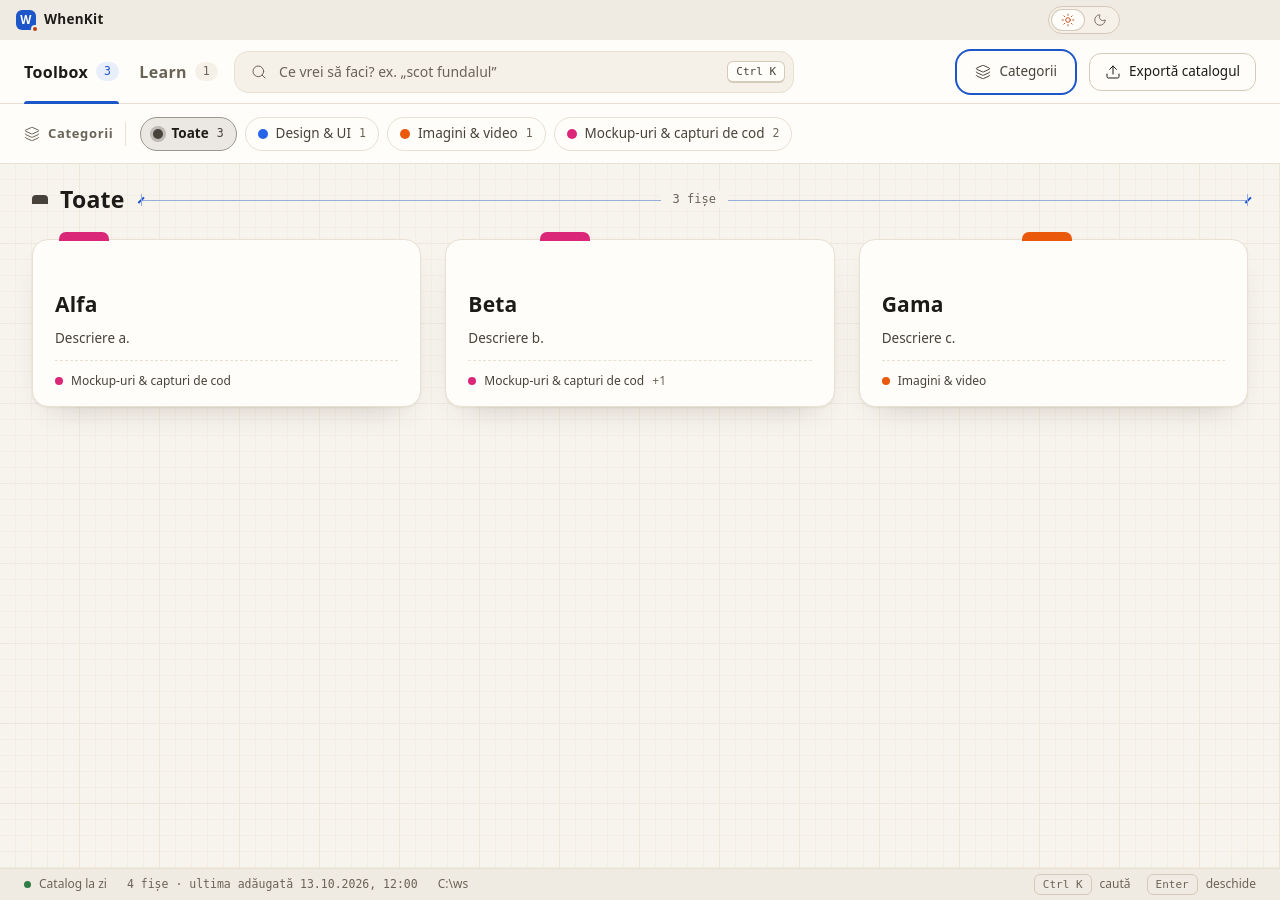
Test: App: category manager › opens from „Categorii” in the toolbar and gives the focus back on close
The image size is (1280, 900).
Click the button "Categorii".
click(1016, 72)  # box [960, 52, 1073, 90]
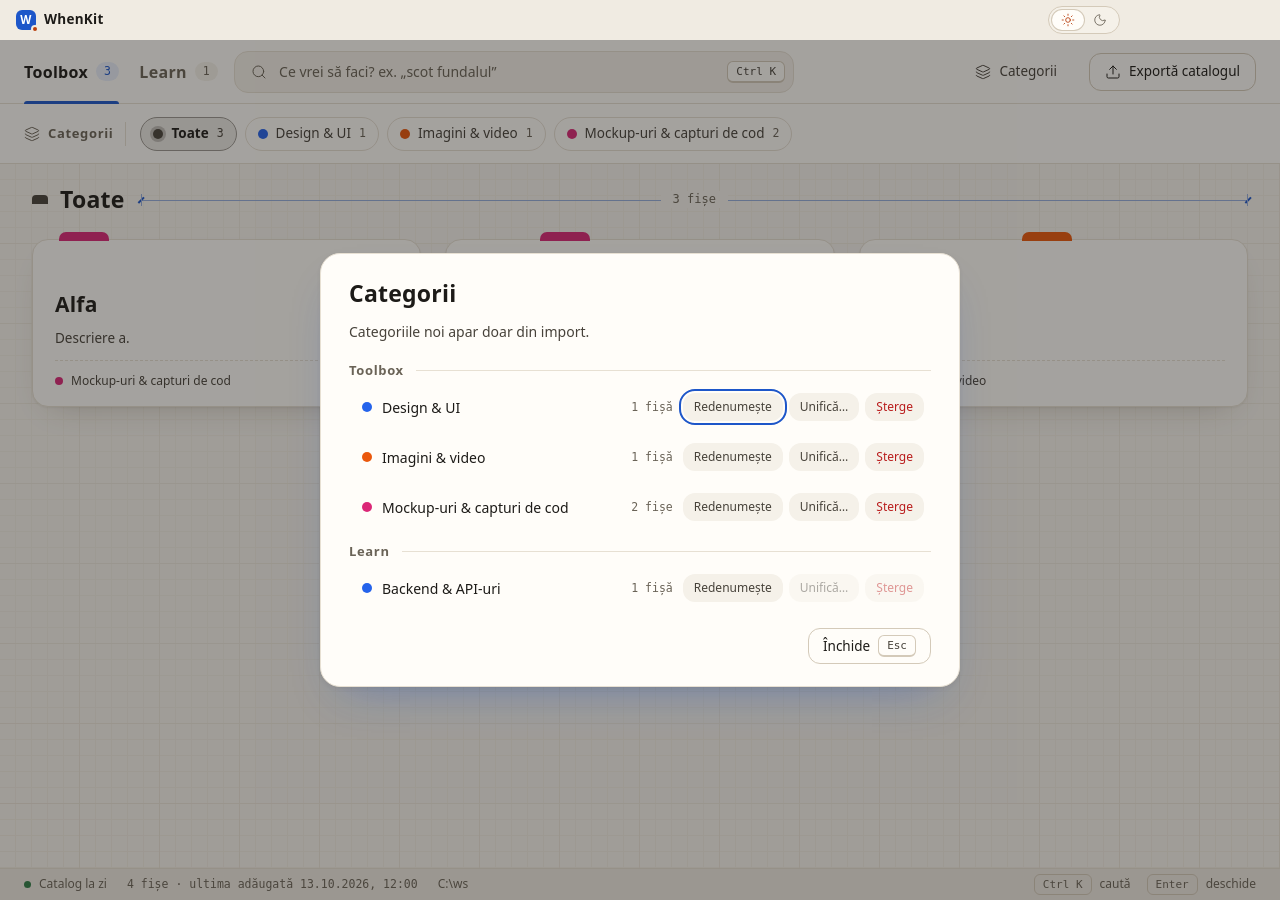
Check: the dialog "Categorii" is shown, box [320, 253, 960, 687]
Press Escape in the 1st button "Redenumește", box [683, 393, 783, 421]
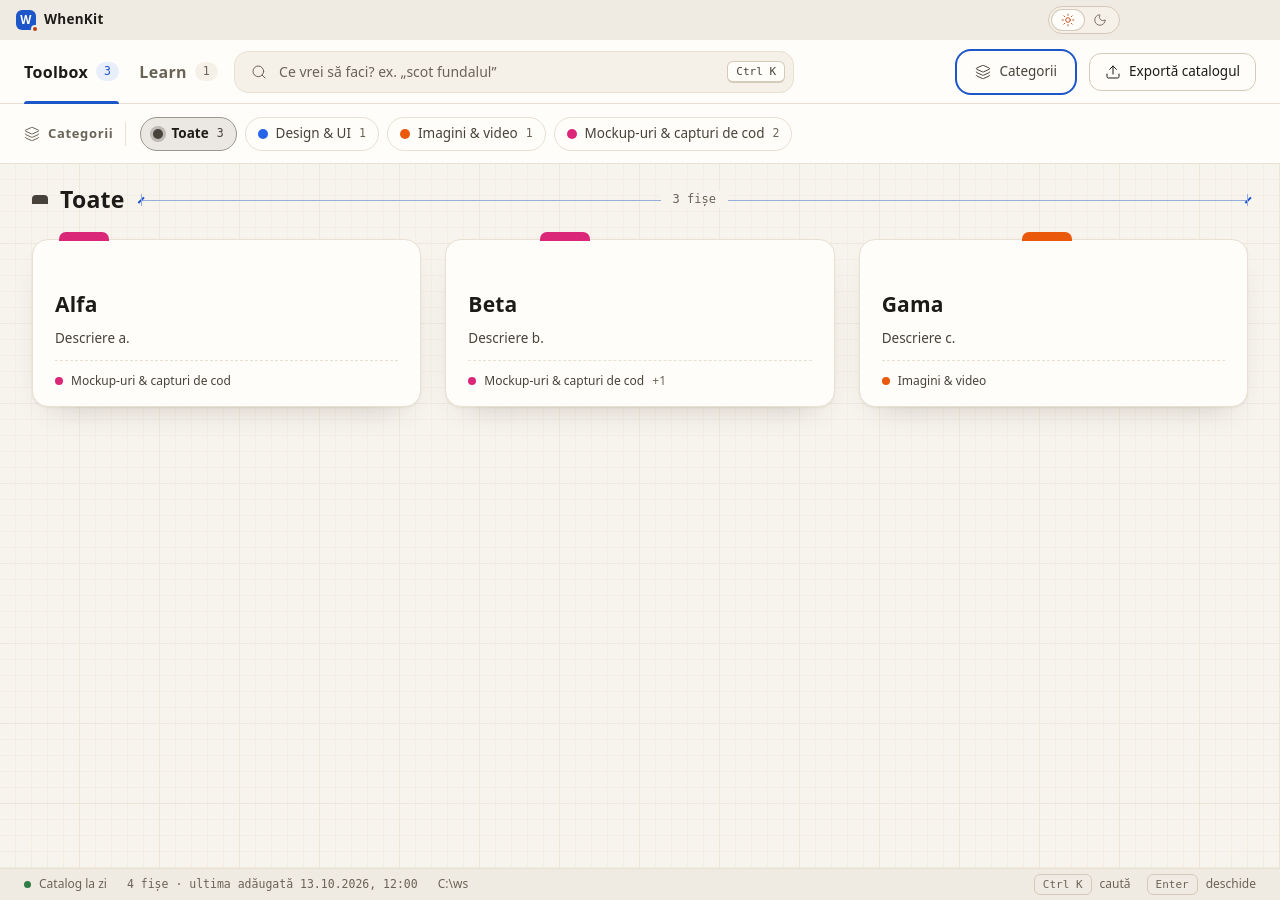
Check: the dialog is gone
